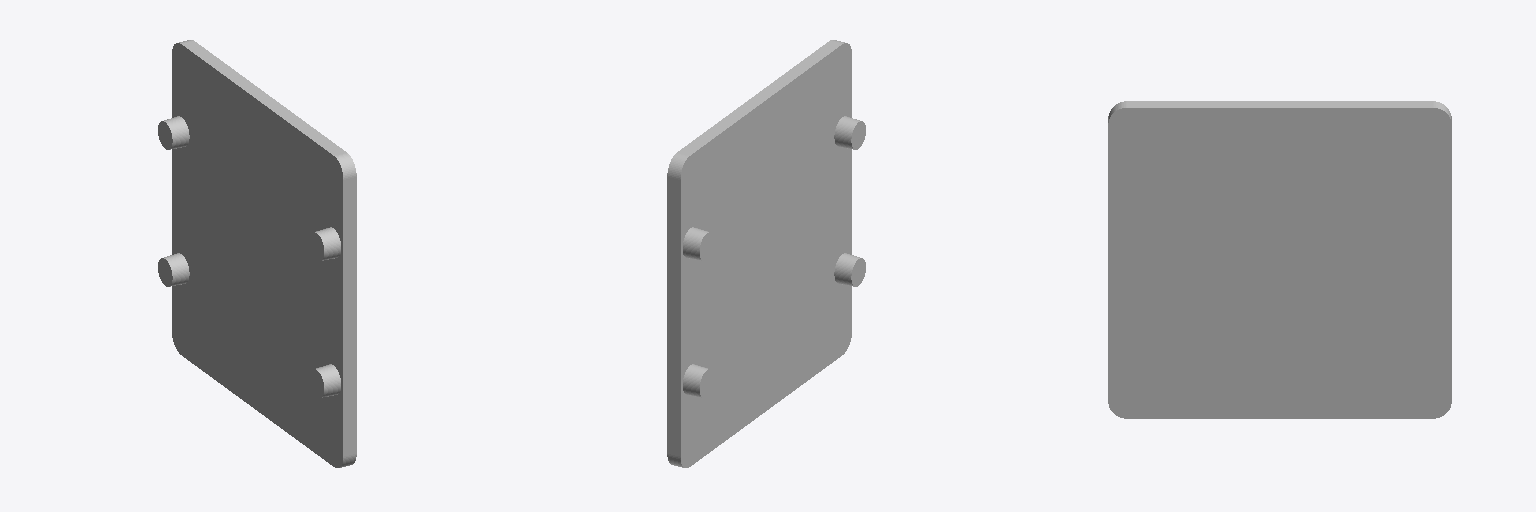
File: V5_Outer Cover Side.obj
The picture shows the model from 3 angles: view 1: azimuth 30°, elevation 25°; view 2: azimuth 150°, elevation 25°; view 3: azimuth 270°, elevation 25°; orthographic projection.
Visible parts, largest first — view 1: Solid1:50; view 2: Solid1:50; view 3: Solid1:50.
Boxes of the visible parts, x1,y1,x2,y2 form: Solid1:50: [158, 40, 356, 467]; Solid1:50: [667, 40, 865, 467]; Solid1:50: [1108, 101, 1451, 418].
Bounding box in the file's own units: 4.5 × 45 × 45.